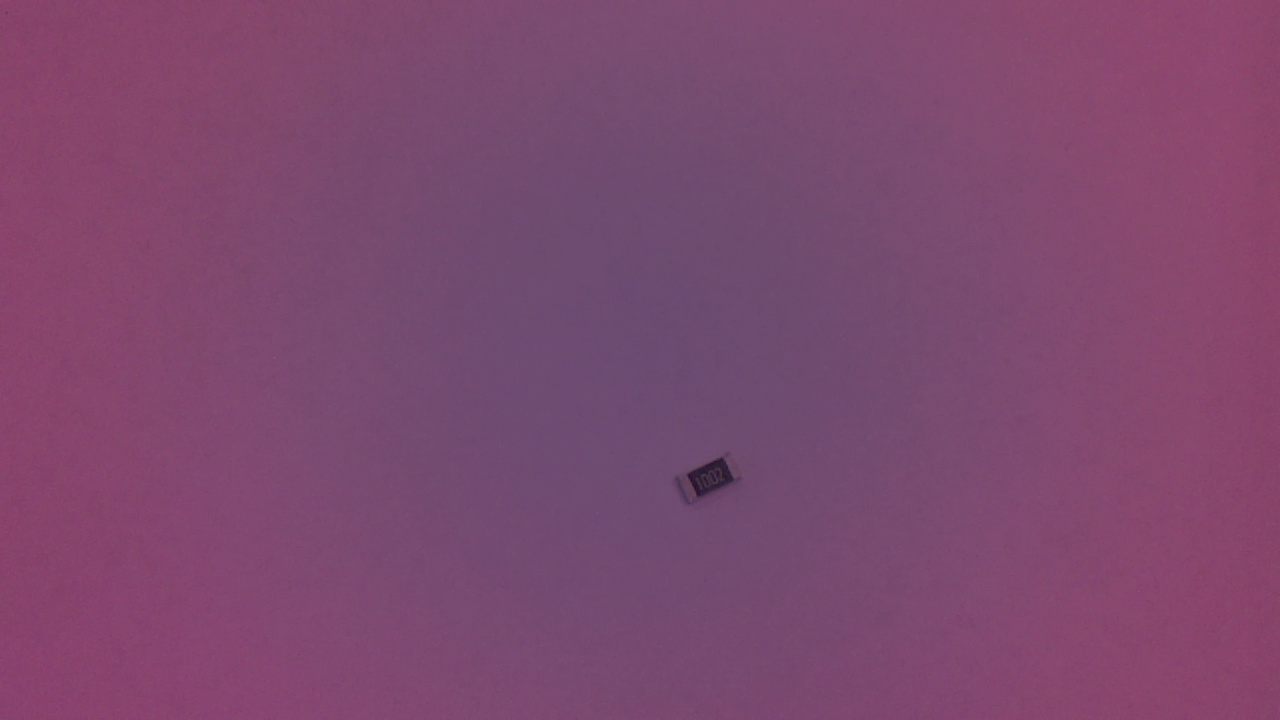Resistor: (680, 452, 753, 510)
